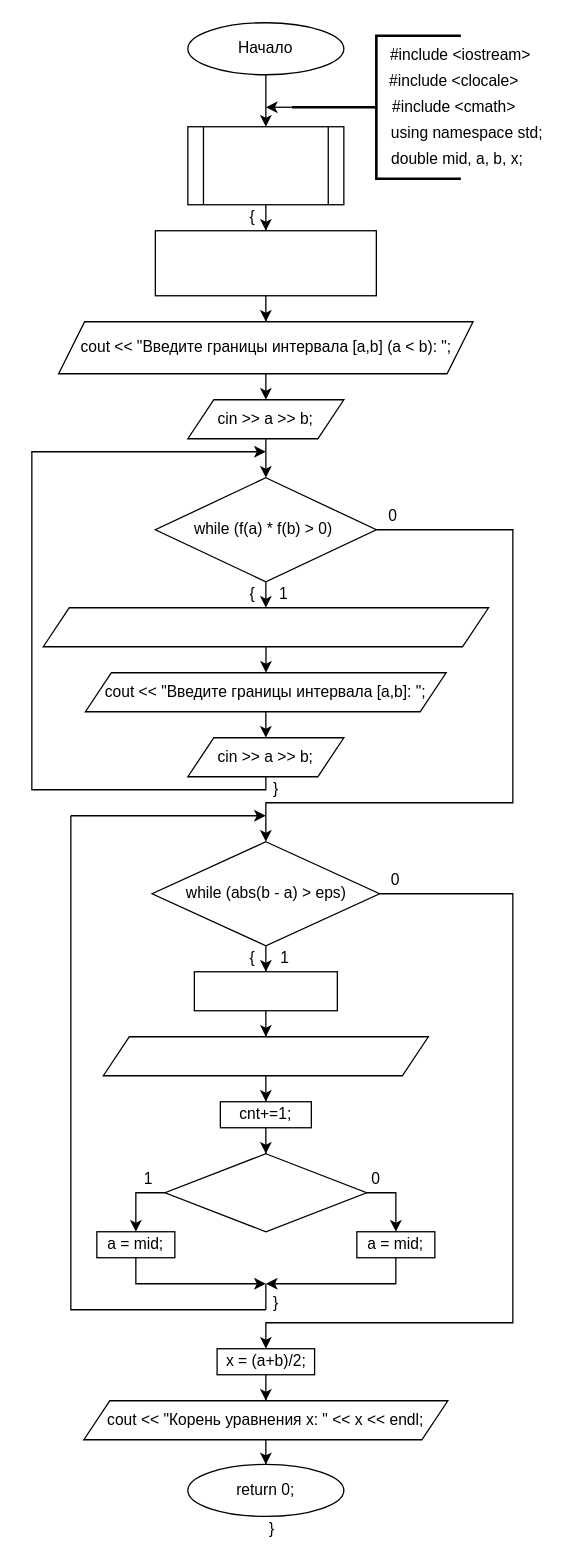
The diagram is 575 pixels wide and 1565 high, and some of its shapes have lost their labels. Here are the shapes that lost their labels. From the top down, the centre of each, then its label:
[265,165]: int main()
[265,262]: const double eps = pow(10,-6); int cnt = 0; bool f = false;
[265,626]: cout << "Корень не лежит на интервале [a,b]." << endl;
[265,990]: mid = (b + a) / 2;
[265,1055]: cout << "x" << cnt <<": " << mid << endl;
[265,1192]: if (f(mid)*f(a) > 0)
